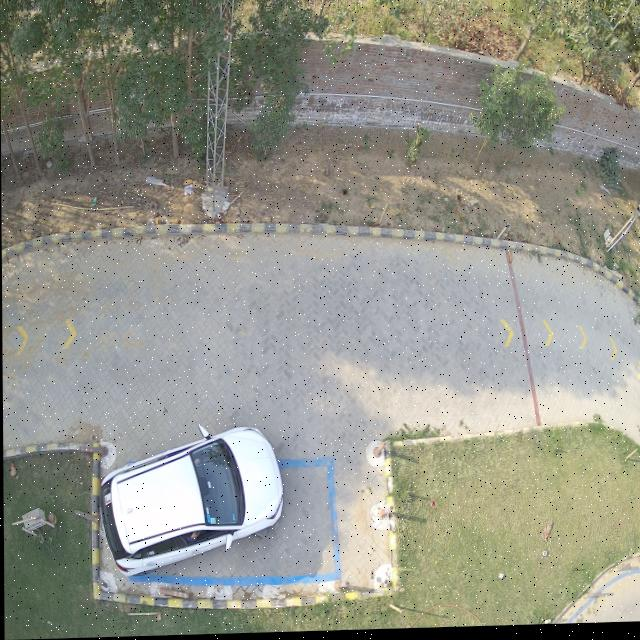car: (100, 429, 282, 577)
